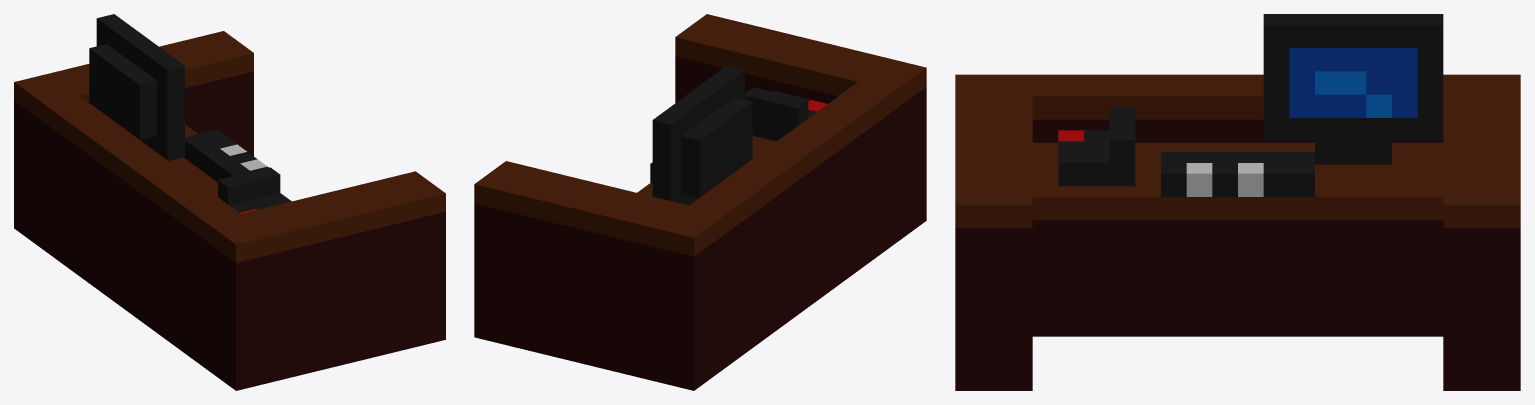
File: Reception_desk.obj
3 renders of one model, left to right at view 1: azimuth 30°, elevation 25°; view 2: azimuth 150°, elevation 25°; view 3: azimuth 270°, elevation 25°, orthographic. The views are drawn at different scales.
Visible parts, largest first — view 1: Reception_desk; view 2: Reception_desk; view 3: Reception_desk.
Boxes of the visible parts, left/top/right/bottom form: Reception_desk: left=14, top=14, right=445, bottom=390; Reception_desk: left=474, top=14, right=926, bottom=390; Reception_desk: left=955, top=14, right=1520, bottom=390.
Size of the model in its own units: 12 by 12 by 22.
1 material, 1 textured.
